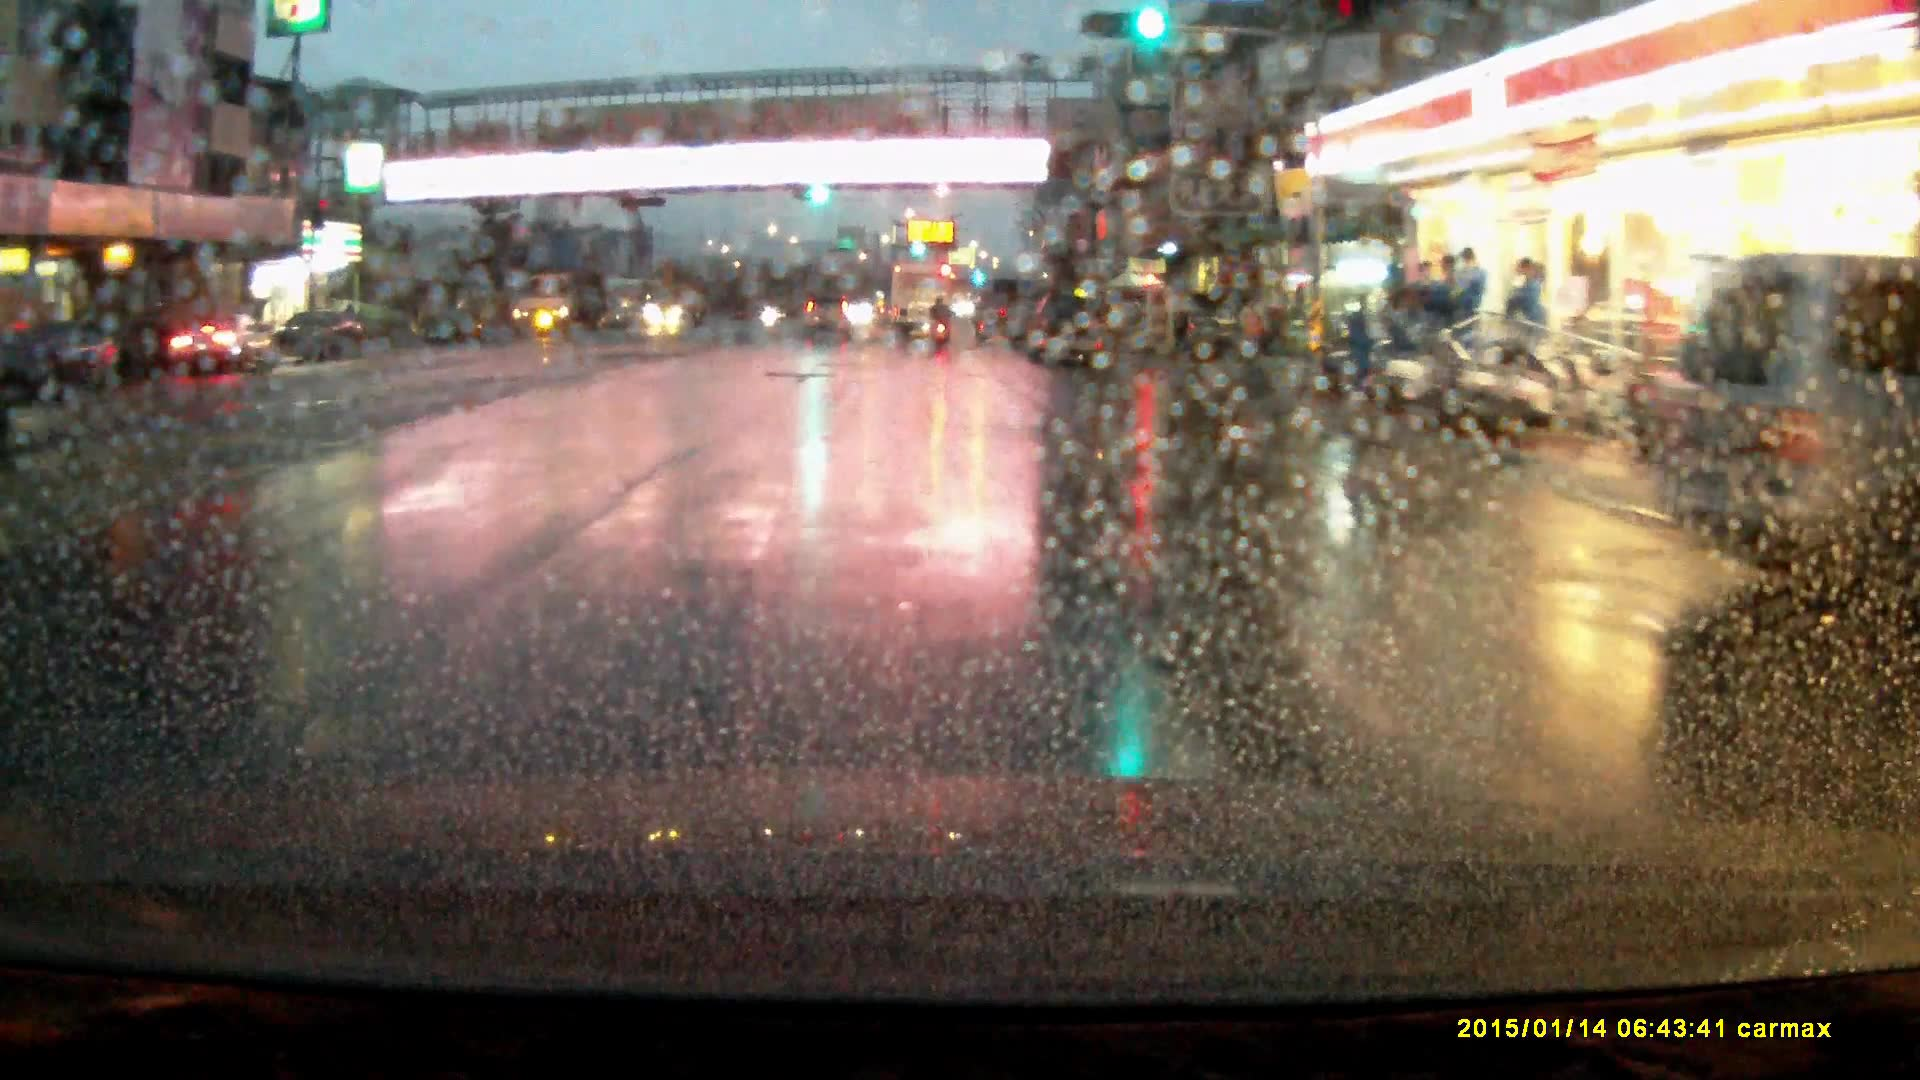rider: (929, 293, 956, 348)
vehicle: (510, 267, 607, 338), (167, 315, 274, 375), (1029, 291, 1104, 369), (270, 309, 374, 364), (1179, 297, 1263, 359), (892, 258, 951, 341), (652, 283, 709, 329), (803, 296, 857, 343)
